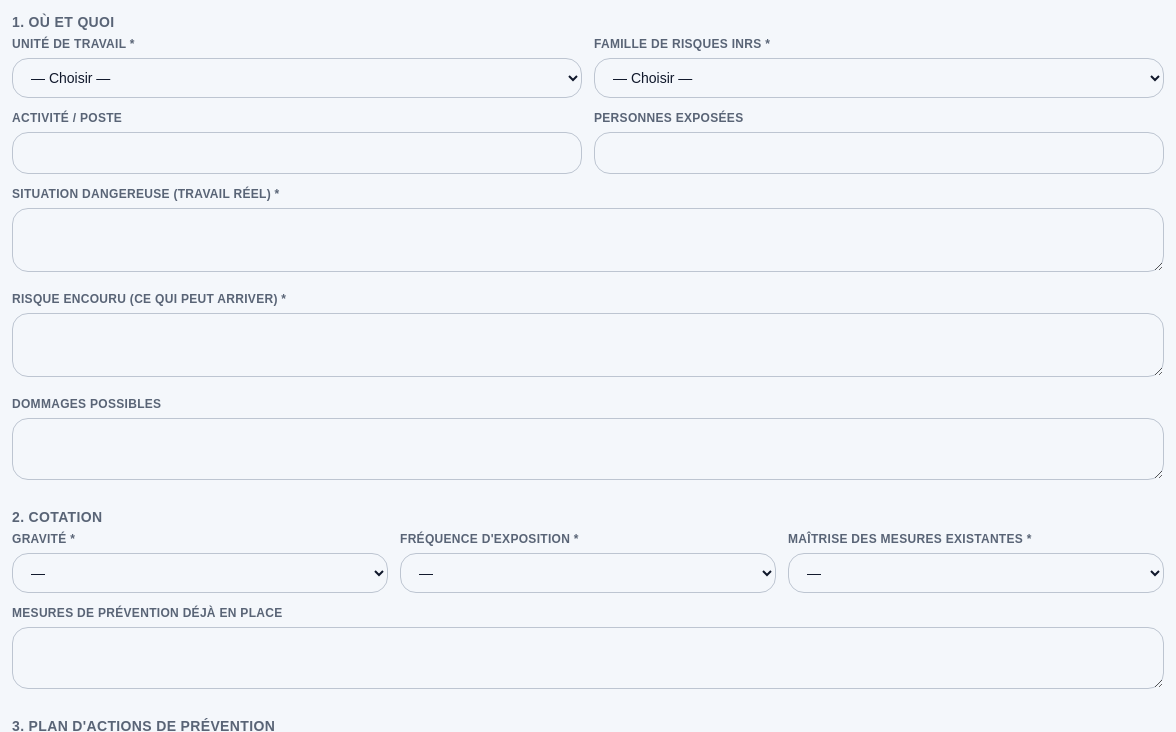
Test: fiche de risque › affiche l'aperçu de la cotation pendant la saisie
Select "4 — Très grave" in the dropdown labelled "Gravité *" at coordinates (200, 573), box left=12, top=553, right=388, bottom=593
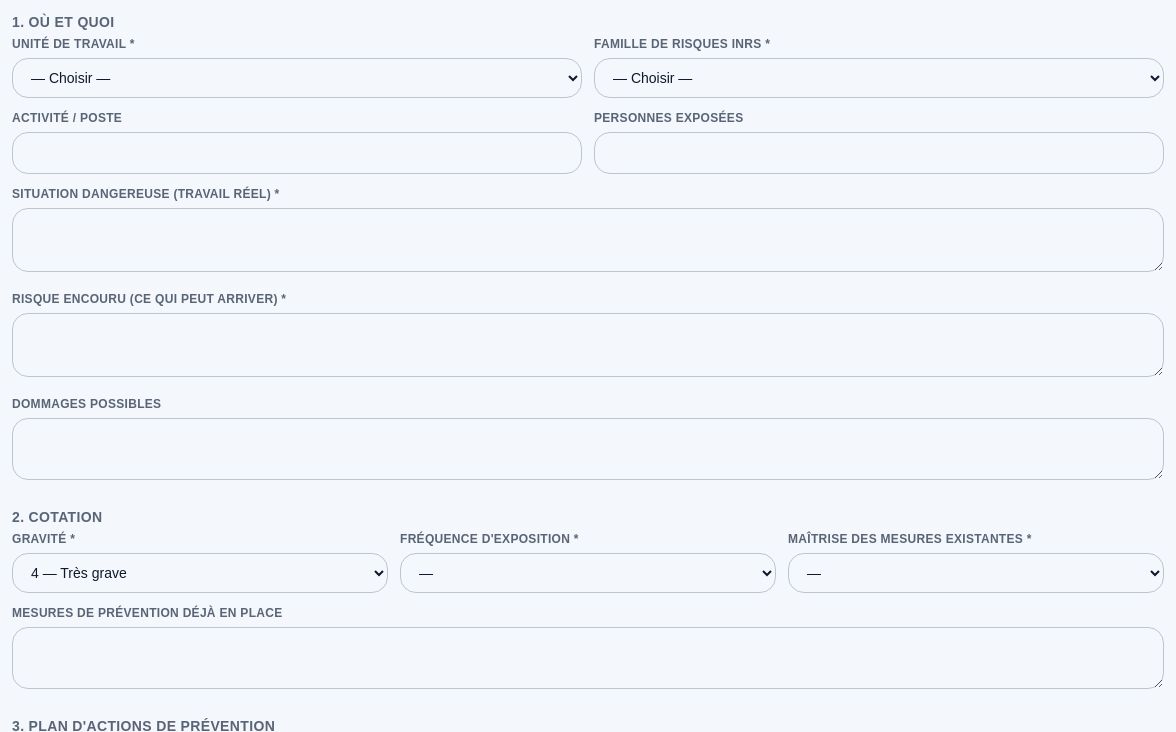
Select "4 — Permanente" in the dropdown labelled "Fréquence d'exposition *" at coordinates (588, 573), box left=400, top=553, right=776, bottom=593
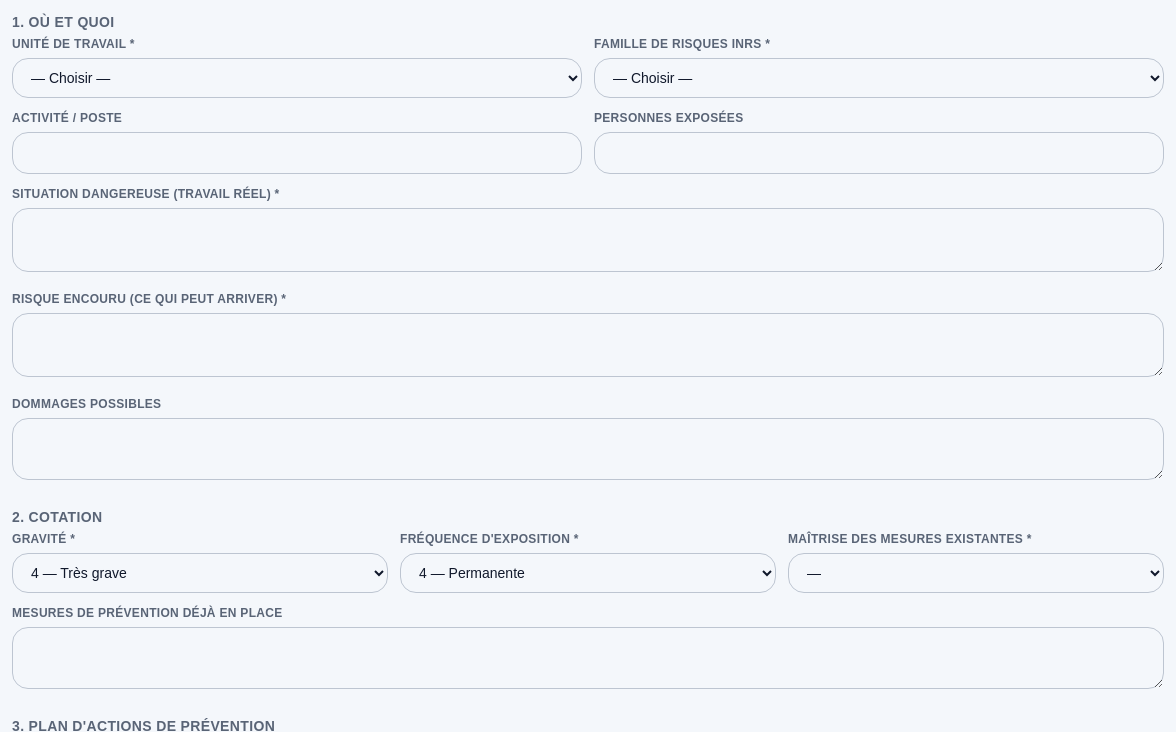
Select "3 — Faible ou absente" in the dropdown labelled "Maîtrise des mesures existantes *" at coordinates (976, 573), box left=788, top=553, right=1164, bottom=593
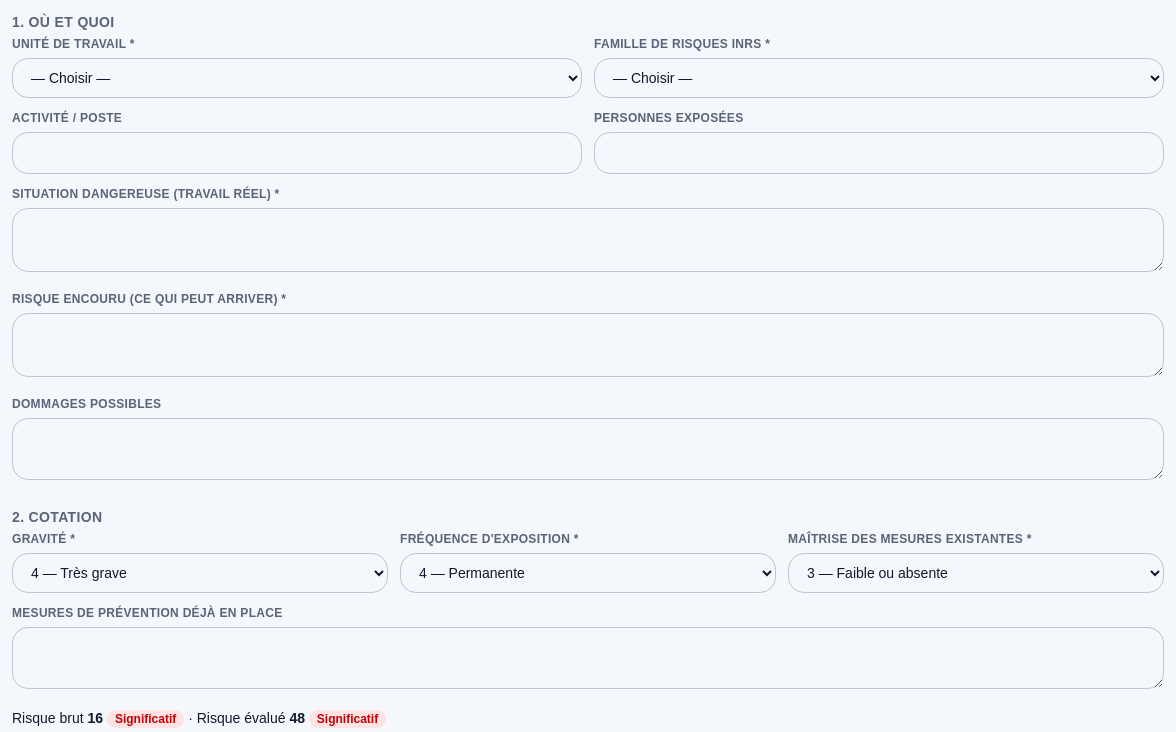
Check: the text "48" is shown, box left=289, top=710, right=305, bottom=726
